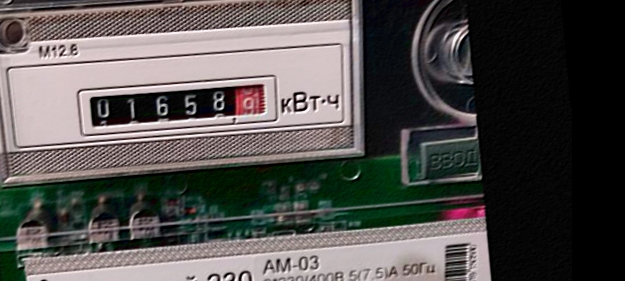0: (95, 96, 110, 119)
1: (125, 96, 137, 119)
5: (182, 92, 198, 116)
6: (153, 94, 169, 117)
8: (210, 88, 226, 111)
9: (238, 95, 254, 117)
screen: (70, 65, 286, 144)
